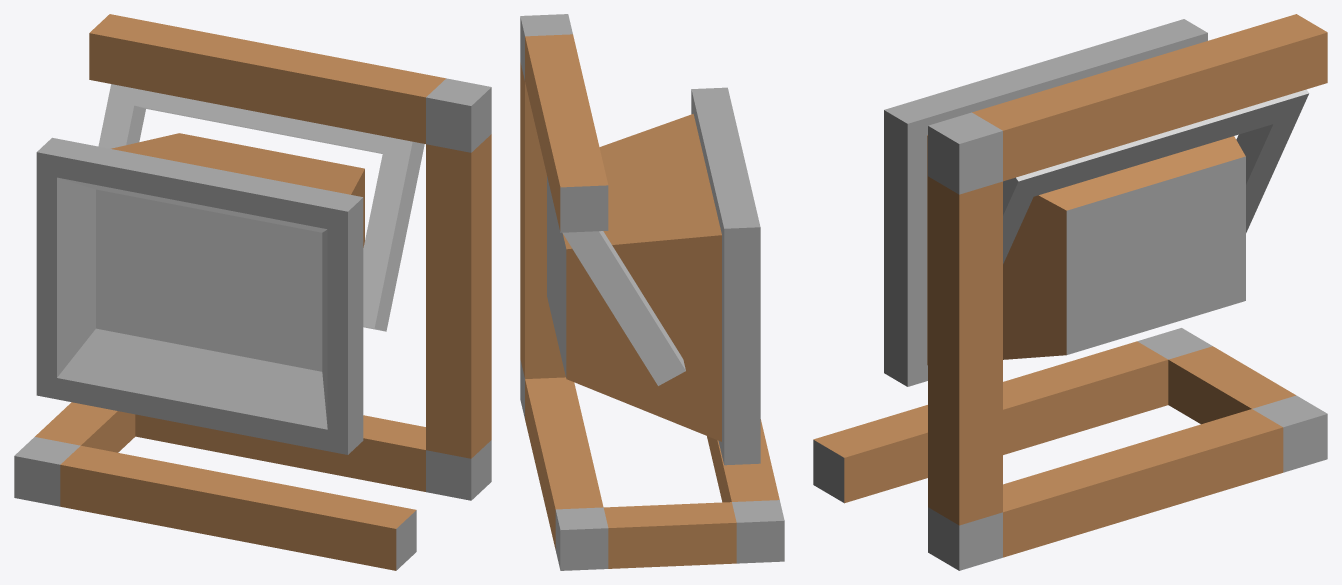
The model's file is floor light.fbx.
3 renders of one model, left to right at view 1: azimuth 30°, elevation 25°; view 2: azimuth 150°, elevation 25°; view 3: azimuth 270°, elevation 25°, orthographic. The views are drawn at different scales.
Parts seen in each view (by area): view 1: Construction Light; view 2: Construction Light; view 3: Construction Light.
Boxes of the visible parts, bbox=[...] form: Construction Light: bbox=[14, 14, 491, 570]; Construction Light: bbox=[520, 14, 784, 570]; Construction Light: bbox=[813, 14, 1327, 570].
Size of the model in its own units: 34.65 by 38.1 by 34.86.
